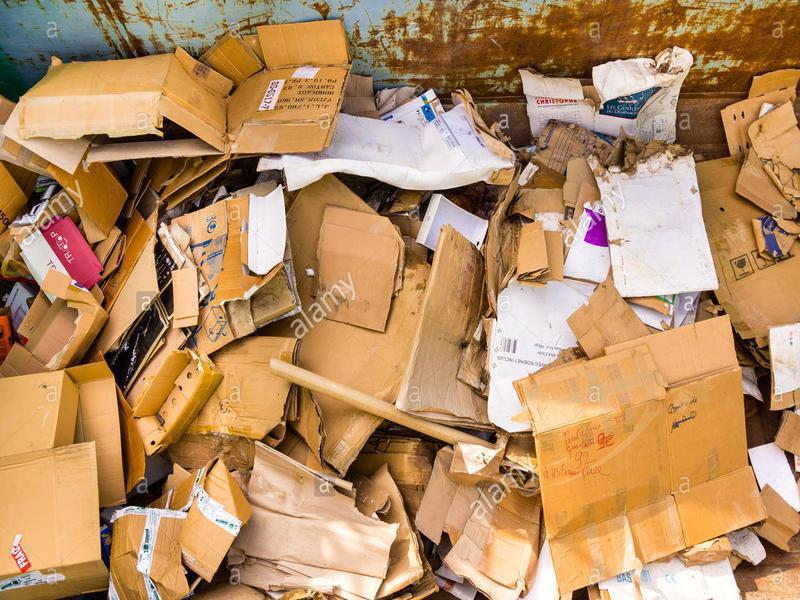cardboard: (502, 290, 771, 600), (4, 15, 358, 174), (681, 66, 800, 339), (2, 349, 129, 594), (158, 183, 321, 366), (561, 144, 727, 309), (108, 457, 273, 600), (505, 41, 696, 153), (305, 203, 421, 349), (5, 222, 113, 367)
